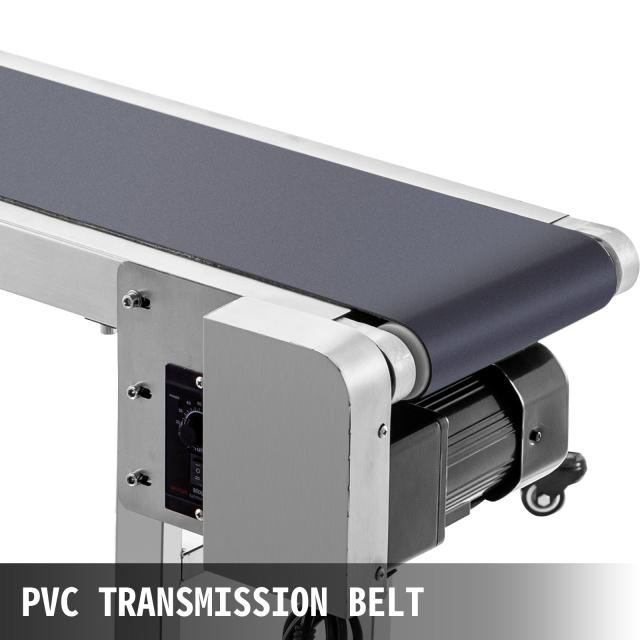conveyor: (0, 12, 640, 495)
